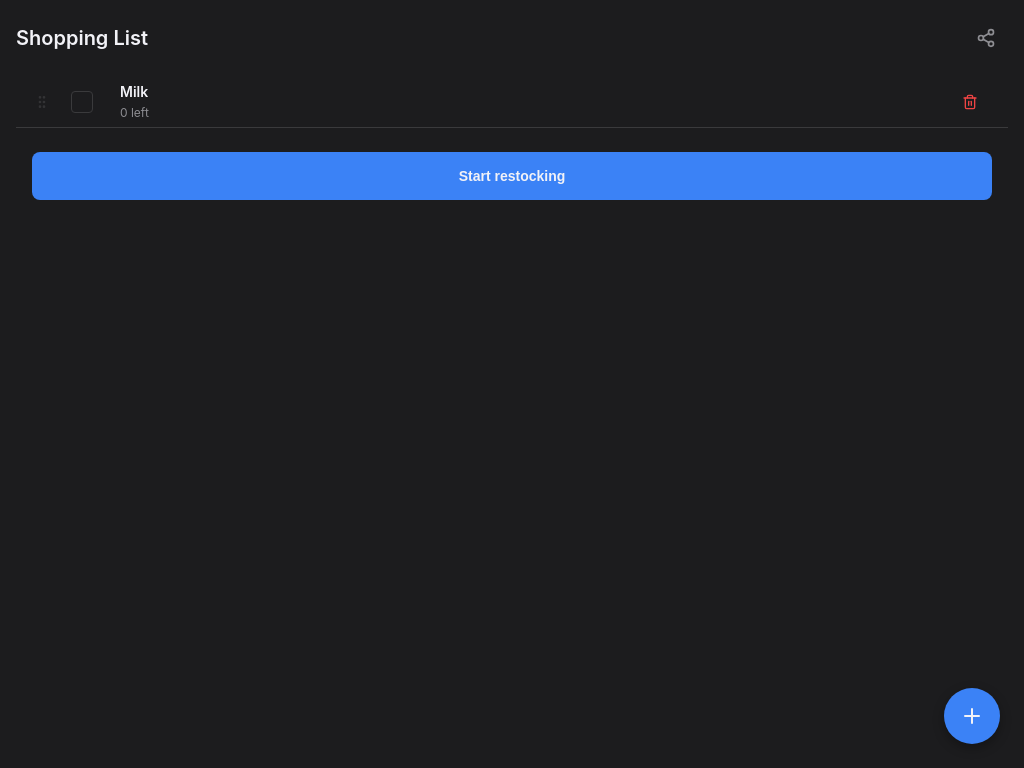
Test case: ShoppingList page › Test H: auto entry can be dismissed via remove button
Check: the text "Milk" is shown, box [120,83,148,100]
Click the button named "Remove Milk from shopping list". click: x=970, y=102
box: [948,80,992,124]
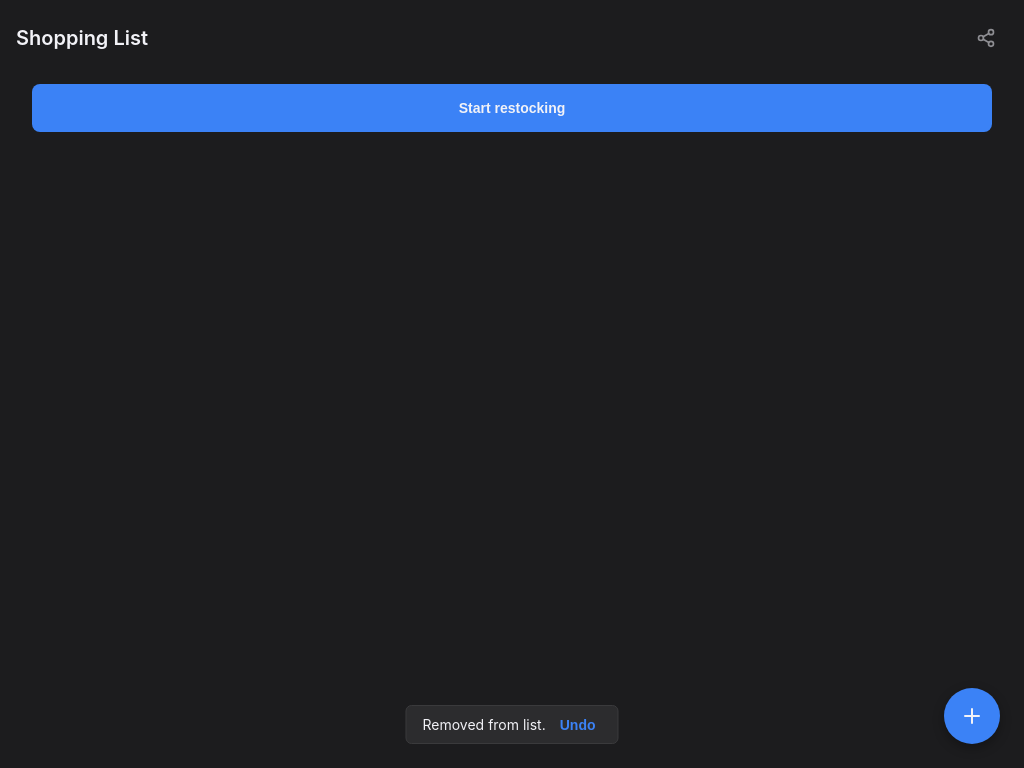
Check: the text "Milk" is gone
